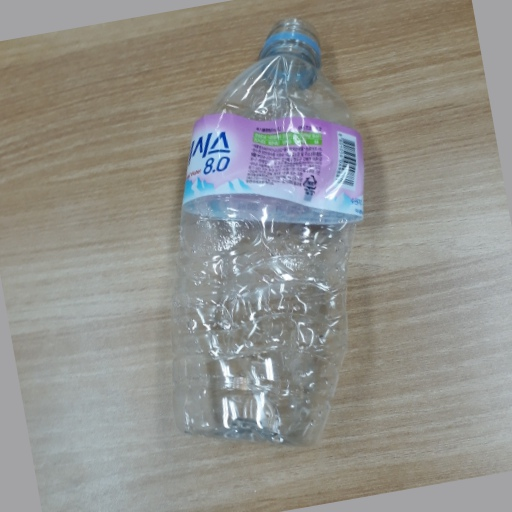Plastic_0: (178, 17, 364, 450)
